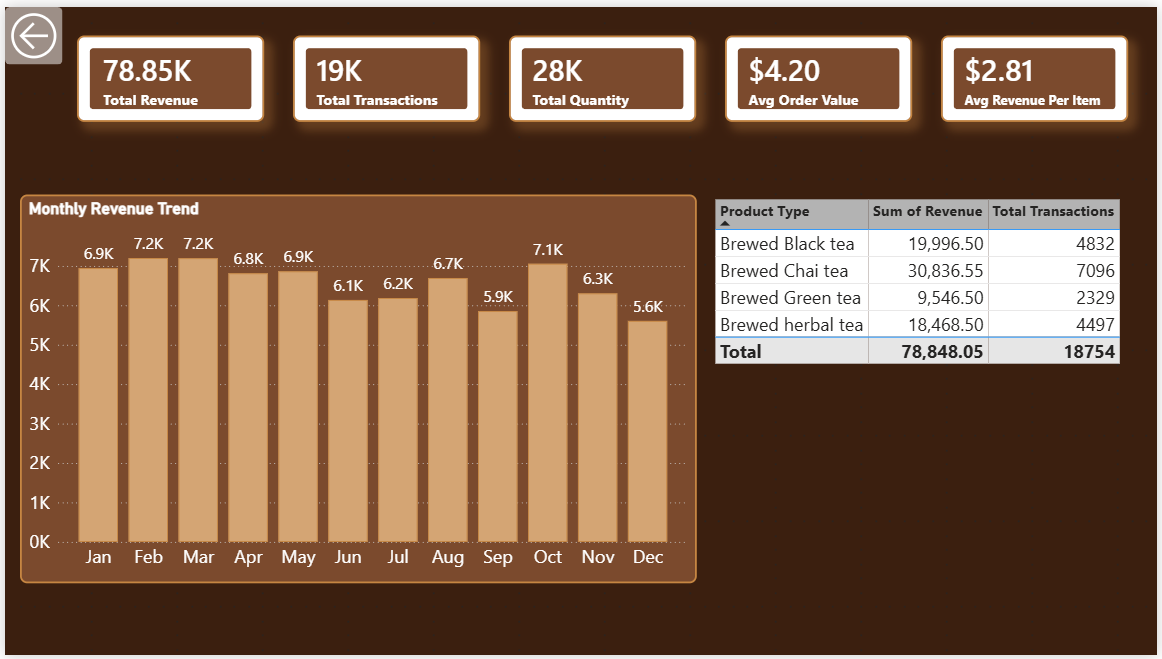

The page's visual inventory and layout, read from the dashboard file:
{"tool":"powerbi","page":{"name":"Product Detail","canvas":[1280,720],"ordinal":3},"visuals":[{"type":"actionButton","box":[0,0,64,64],"z":3000},{"type":"tableEx","fields":{"Values":["Coffee_shop_sales.Product Type","Sum(Coffee_shop_sales.Revenue)","KPI_Measures.Total Transactions"]},"box":[784,208,480,432],"z":4000},{"type":"cardVisual","fields":{"Data":["KPI_Measures.Total Revenue"]},"box":[80,32,208,96],"z":5000},{"type":"cardVisual","fields":{"Data":["KPI_Measures.Total Transactions"]},"box":[320,32,208,96],"z":6000},{"type":"cardVisual","fields":{"Data":["KPI_Measures.Total Quantity"]},"box":[560,32,208,96],"z":7000},{"type":"cardVisual","fields":{"Data":["KPI_Measures.Avg Order Value"]},"box":[800,32,208,96],"z":8000},{"type":"cardVisual","fields":{"Data":["KPI_Measures.Avg Revenue Per Item"]},"box":[1040,32,208,96],"z":9000},{"type":"clusteredColumnChart","title":"Monthly Revenue Trend","fields":{"Category":["Date_Table.Month Name"],"Y":["KPI_Measures.Total Revenue"]},"box":[16,208,752,432],"z":10000}]}

Visuals, with their boxes in screenshot pixels (x1, y1, x2, y2), scaled from the page's 1280x720 canvas onto the 1162x659 screenshot:
actionButton: {"x1": 0, "y1": 0, "x2": 58, "y2": 59}
tableEx - Coffee_shop_sales.Product Type x Sum(Coffee_shop_sales.Revenue): {"x1": 712, "y1": 190, "x2": 1147, "y2": 586}
cardVisual - KPI_Measures.Total Revenue: {"x1": 73, "y1": 29, "x2": 261, "y2": 117}
cardVisual - KPI_Measures.Total Transactions: {"x1": 290, "y1": 29, "x2": 479, "y2": 117}
cardVisual - KPI_Measures.Total Quantity: {"x1": 508, "y1": 29, "x2": 697, "y2": 117}
cardVisual - KPI_Measures.Avg Order Value: {"x1": 726, "y1": 29, "x2": 915, "y2": 117}
cardVisual - KPI_Measures.Avg Revenue Per Item: {"x1": 944, "y1": 29, "x2": 1133, "y2": 117}
"Monthly Revenue Trend" clusteredColumnChart: {"x1": 15, "y1": 190, "x2": 697, "y2": 586}
